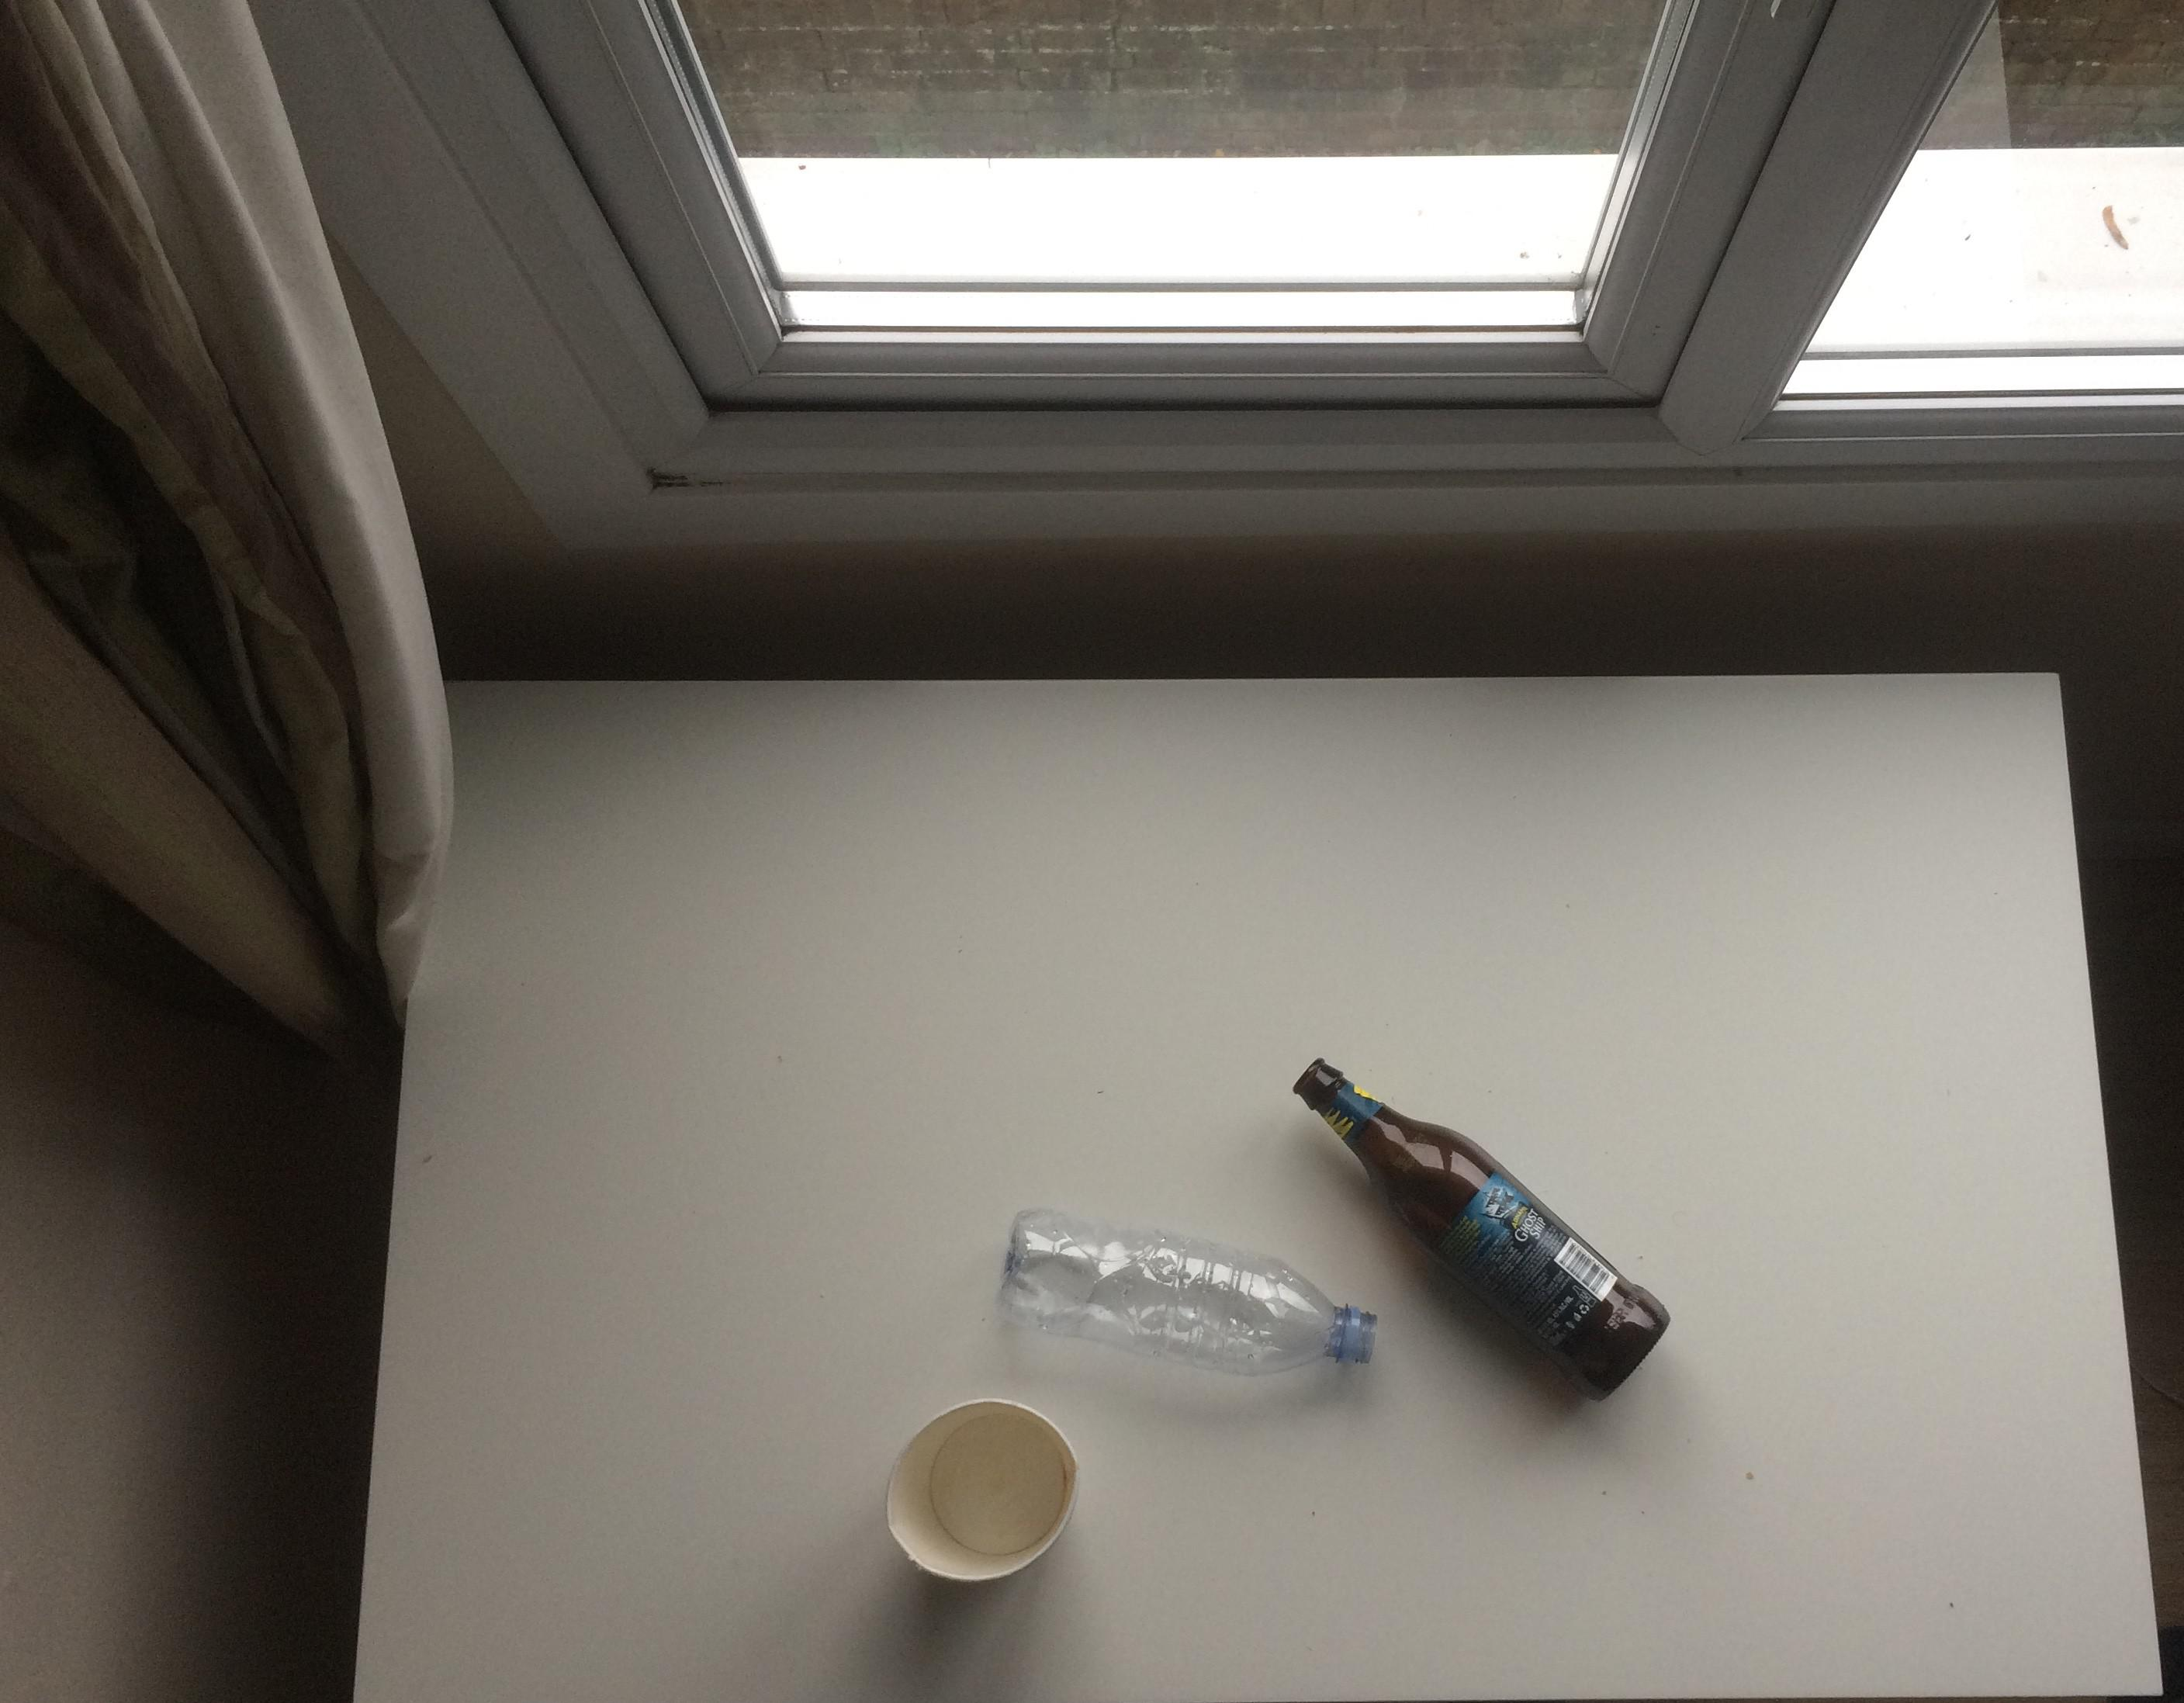Trash: (1283, 1054, 1668, 1404), (993, 1212, 1377, 1379), (883, 1395, 1083, 1579)
